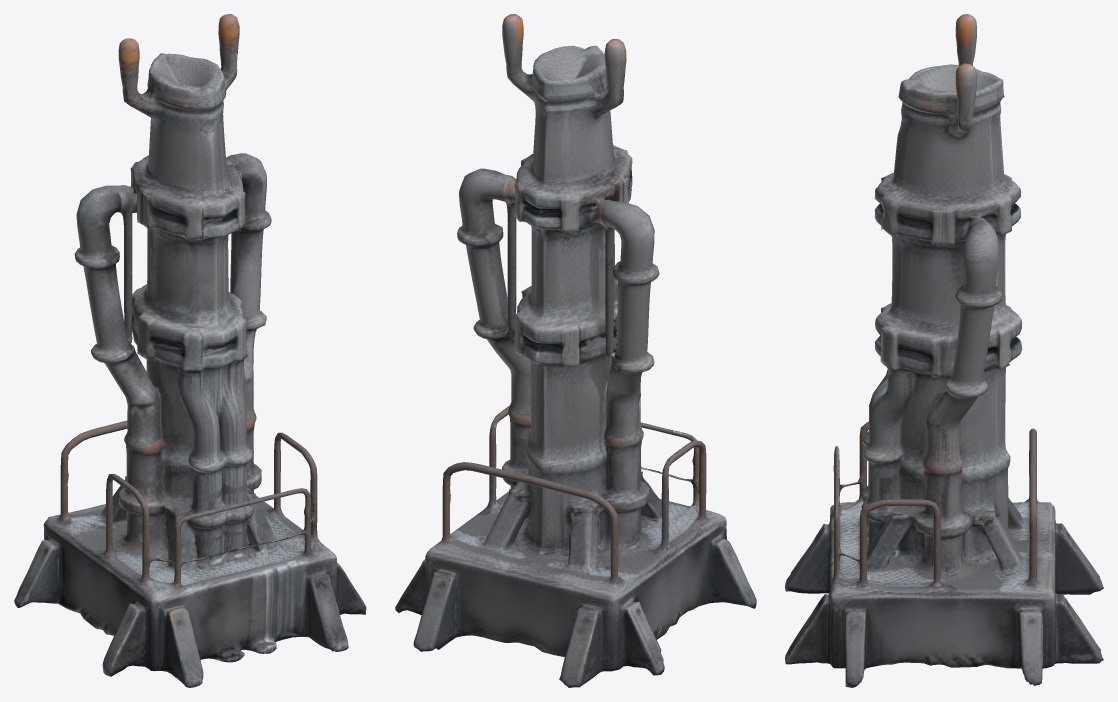
Rendered from MethanePipe_base_basic_pbr.glb.
The picture shows the model from 3 angles, left to right: view 1: azimuth 30°, elevation 25°; view 2: azimuth 150°, elevation 25°; view 3: azimuth 270°, elevation 25°; orthographic projection. The views are drawn at different scales.
Visible parts, largest first — view 1: model; view 2: model; view 3: model.
Boxes of the visible parts, bbox=[...] form: model: bbox=[14, 14, 366, 687]; model: bbox=[395, 14, 756, 687]; model: bbox=[785, 14, 1103, 687].
Bounding box in the file's own units: 0.8898 × 1.89 × 0.9306.
Materials: 1 (1 with a texture image).
